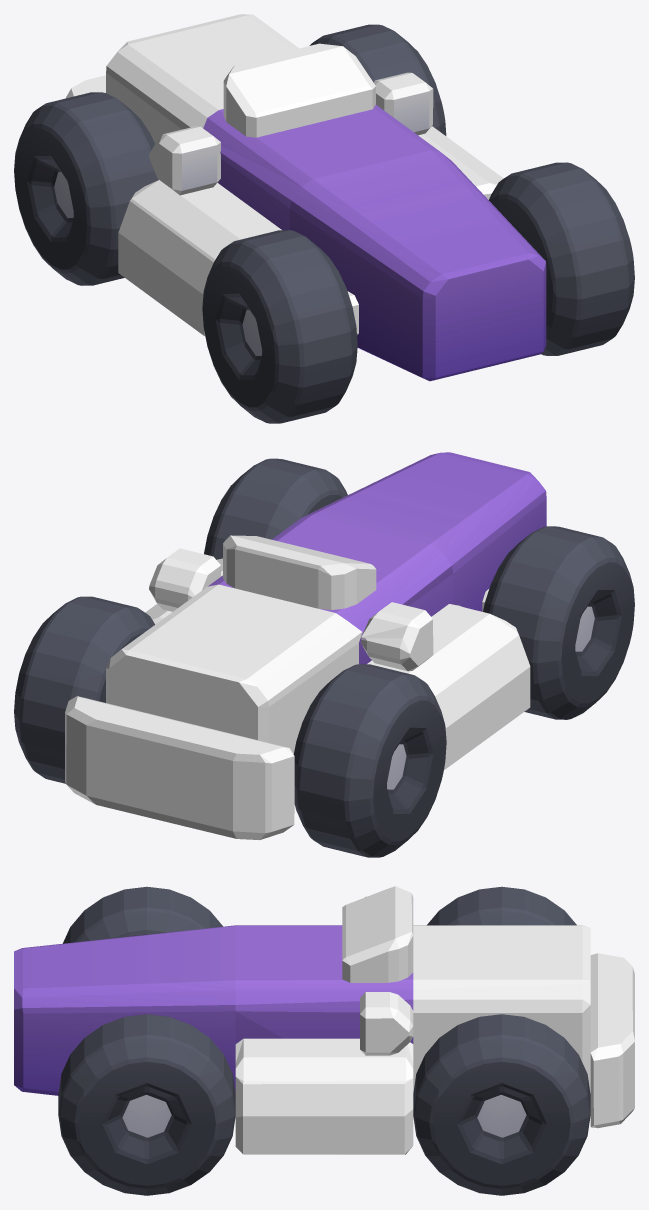
File: KitVintageRacer.fbx
3 renders of one model, top to bottom at view 1: azimuth 30°, elevation 25°; view 2: azimuth 150°, elevation 25°; view 3: azimuth 270°, elevation 25°, orthographic. The views are drawn at different scales.
Parts seen in each view (by area): view 1: KitVintageRacer_Body, Wheel_RL, Wheel_FL, Wheel_RR, Wheel_FR; view 2: KitVintageRacer_Body, Wheel_FL, Wheel_RL, Wheel_FR, Wheel_RR; view 3: KitVintageRacer_Body, Wheel_FR, Wheel_RR, Wheel_RL, Wheel_FL.
Boxes of the visible parts, x1,y1,x2,y2 form: KitVintageRacer_Body: [66, 14, 546, 381]; Wheel_RL: [202, 230, 357, 423]; Wheel_FL: [14, 92, 158, 285]; Wheel_RR: [489, 162, 634, 355]; Wheel_FR: [309, 24, 446, 135]; KitVintageRacer_Body: [65, 452, 546, 840]; Wheel_FL: [293, 664, 446, 857]; Wheel_RL: [483, 526, 634, 719]; Wheel_FR: [14, 596, 154, 783]; Wheel_RR: [204, 458, 347, 559]; KitVintageRacer_Body: [14, 886, 634, 1154]; Wheel_FR: [413, 1014, 590, 1195]; Wheel_RR: [58, 1014, 235, 1195]; Wheel_RL: [63, 886, 222, 943]; Wheel_FL: [427, 886, 576, 925].
Size of the model in its own units: 1.89 by 1.11 by 3.
